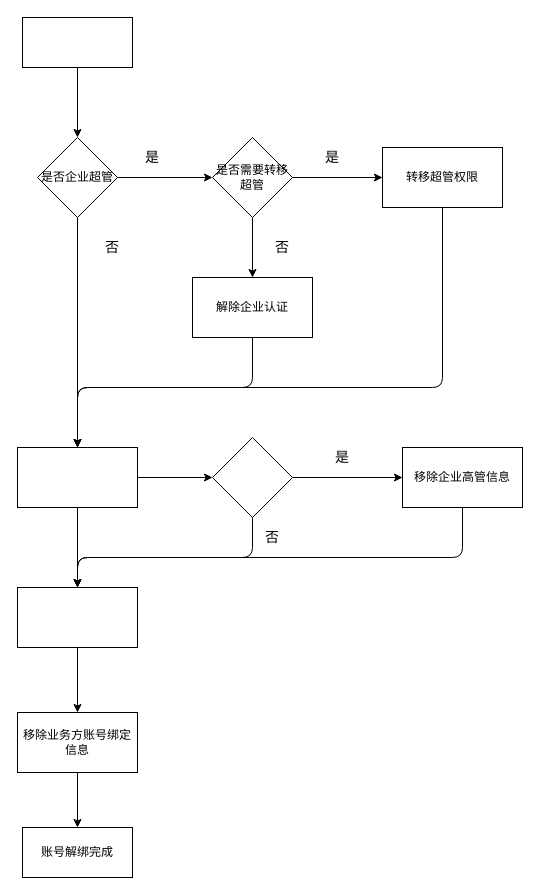
The diagram is 540 pixels wide and 895 high, and some of its shapes have lost their labels. The centre of each missing label's shape, as x and y in pixels:
"业务方注销账号" belongs at point (77, 42).
"是否企业高管" belongs at point (252, 477).
"移除企业认证管理权限及订单信息" belongs at point (77, 617).
"移除名片认证信息" belongs at point (77, 477).
